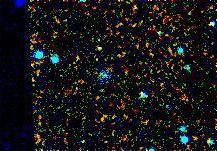star: (85, 30, 115, 60)
